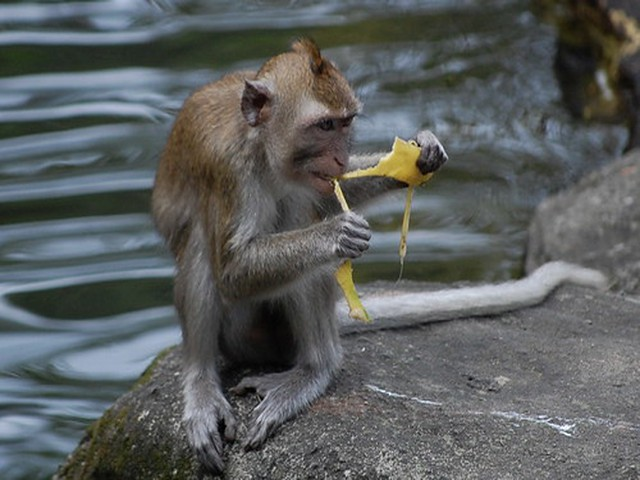Monkey: (150, 40, 448, 456)
